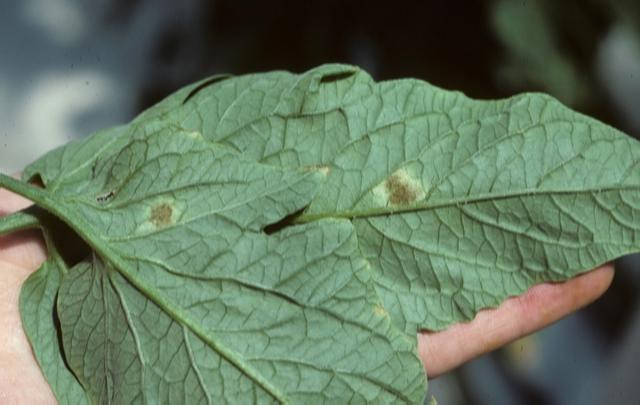Tomato mold leaf: (52, 63, 639, 344), (12, 123, 457, 405)
